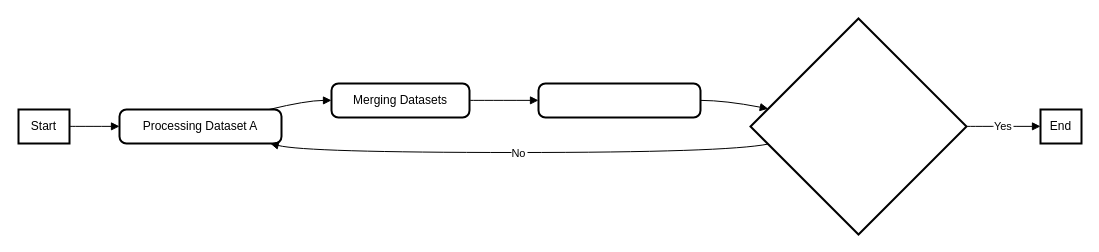
This 1099x252 diagram has some shape labels left out. The centre of each missing label's shape, as x and y in pixels:
"Are all data processed?" belongs at point 858,126.
"Processing Dataset B" belongs at point 619,100.
